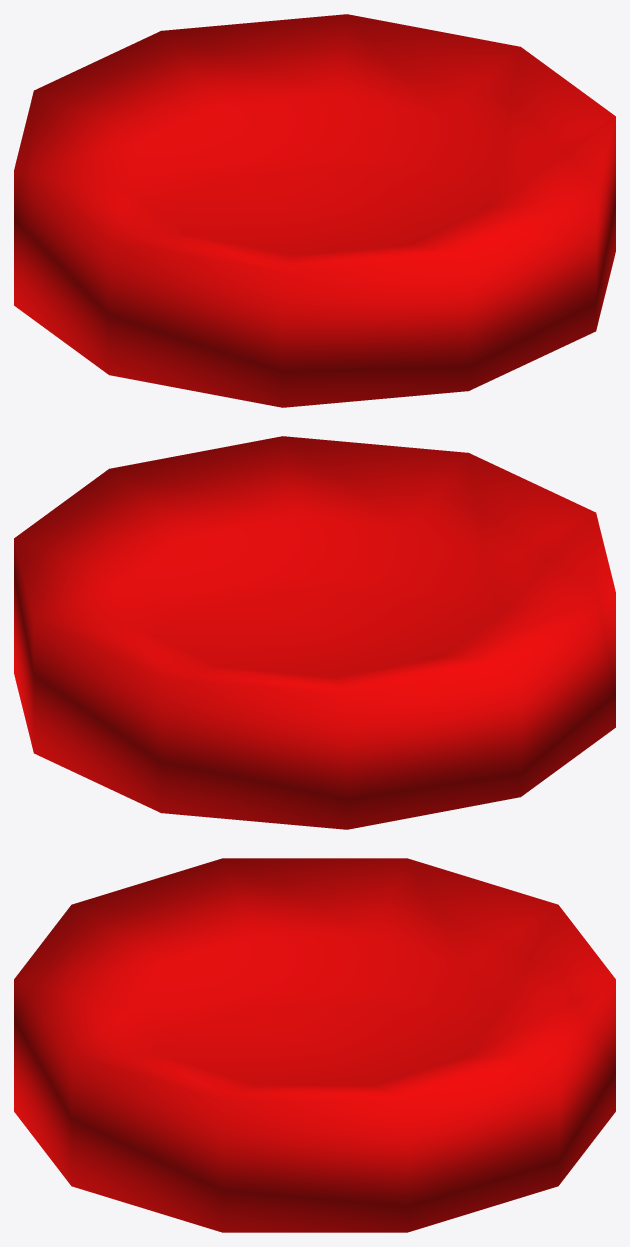
File: Red blood cell.fbx
3 views of the same model, one above another, from view 1: azimuth 30°, elevation 25°; view 2: azimuth 150°, elevation 25°; view 3: azimuth 270°, elevation 25° (orthographic). The views are drawn at different scales.
Visible parts, largest first — view 1: Sphere001; view 2: Sphere001; view 3: Sphere001.
Boxes of the visible parts, box(x1,y1,x2,y2) form: Sphere001: box(14, 14, 615, 407); Sphere001: box(14, 436, 615, 829); Sphere001: box(14, 858, 615, 1232).
Size of the model in its own units: 18.09 by 4.6 by 19.02.
